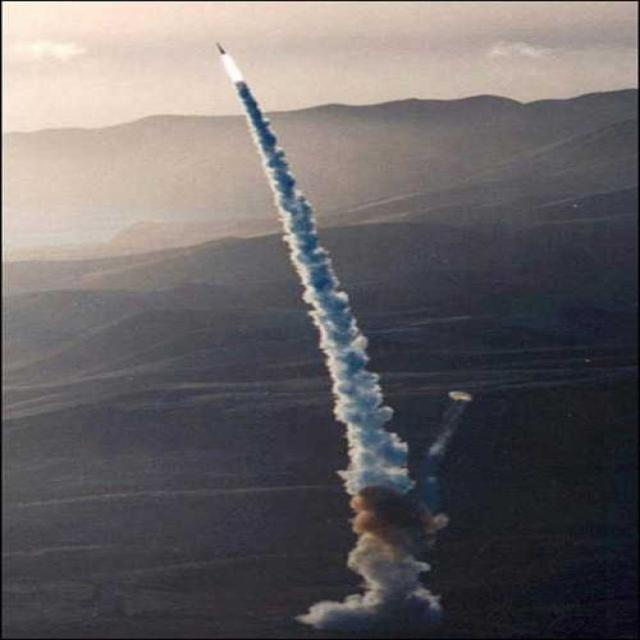missile: (205, 42, 236, 56)
